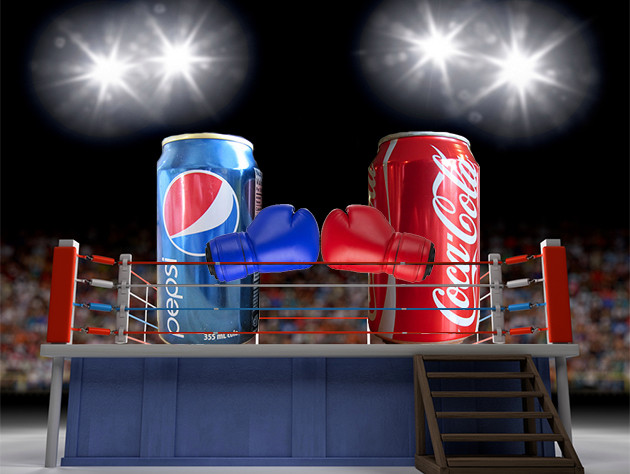pepsi: (162, 170, 238, 253)
